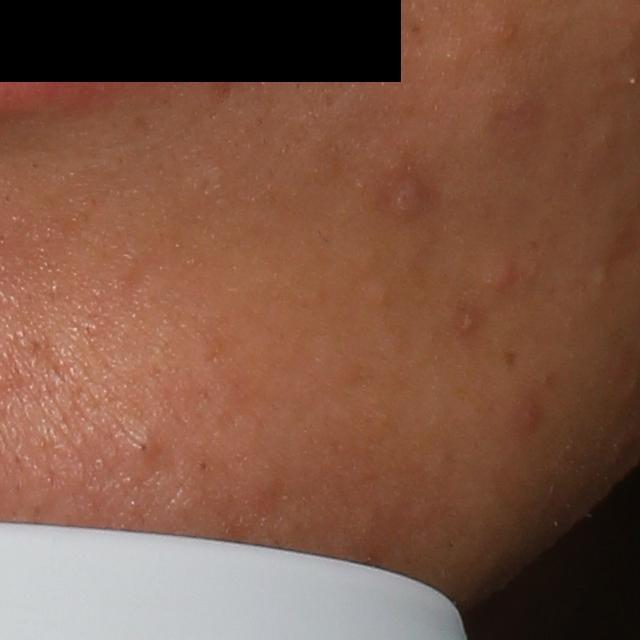comedo: (591, 259, 613, 289)
papule: (385, 176, 430, 219), (480, 255, 517, 300)
